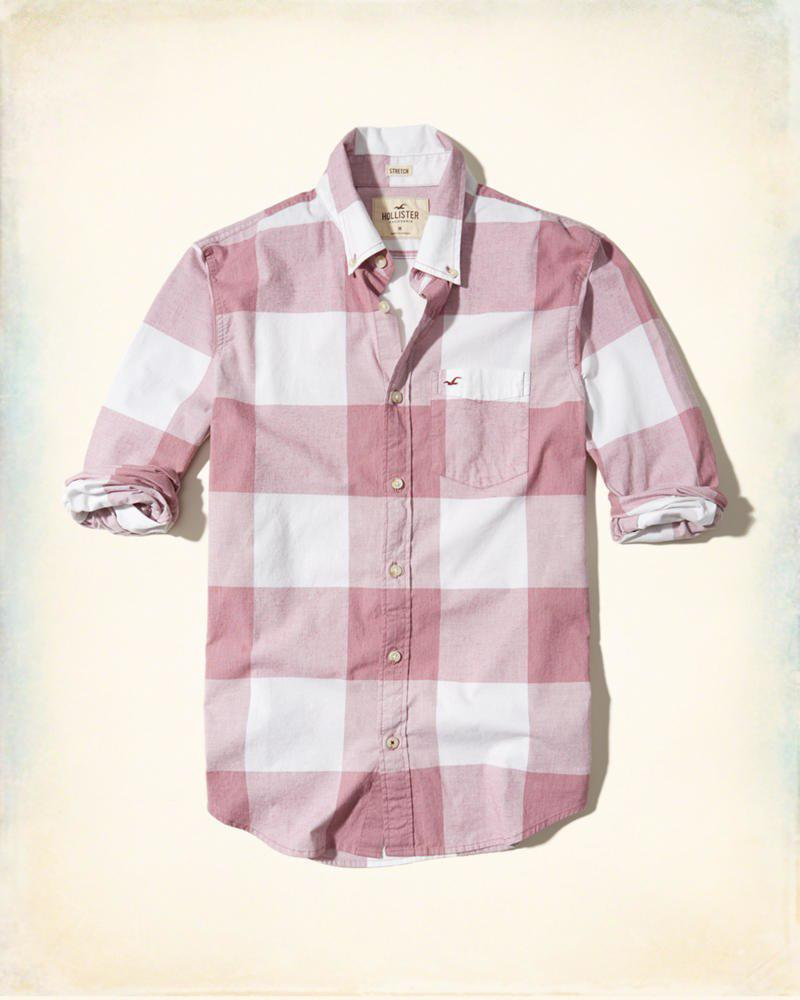teeshirt: (65, 122, 727, 880)
